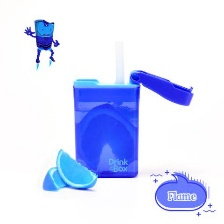carton: (62, 65, 147, 190)
drinking_straw: (109, 35, 129, 88)
